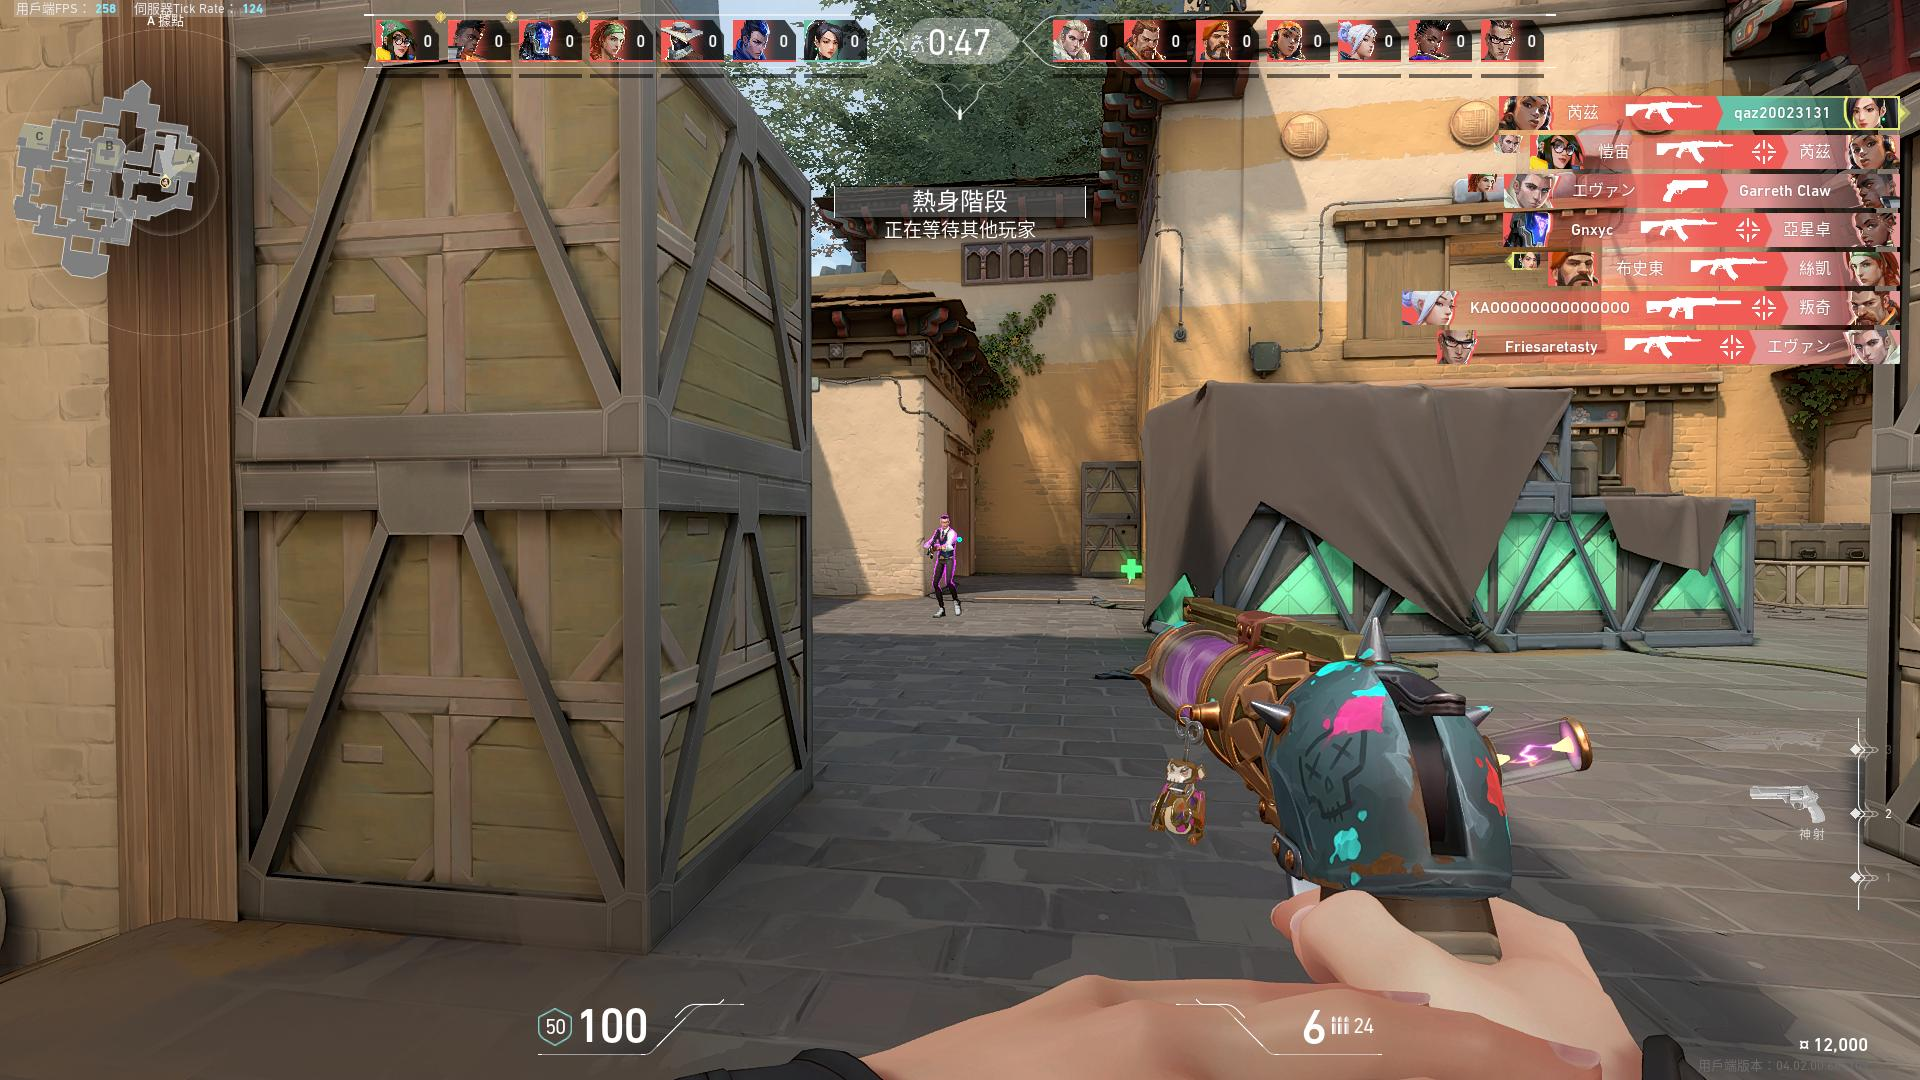enemyBody: (939, 531, 953, 556)
enemyHead: (942, 520, 948, 527)
